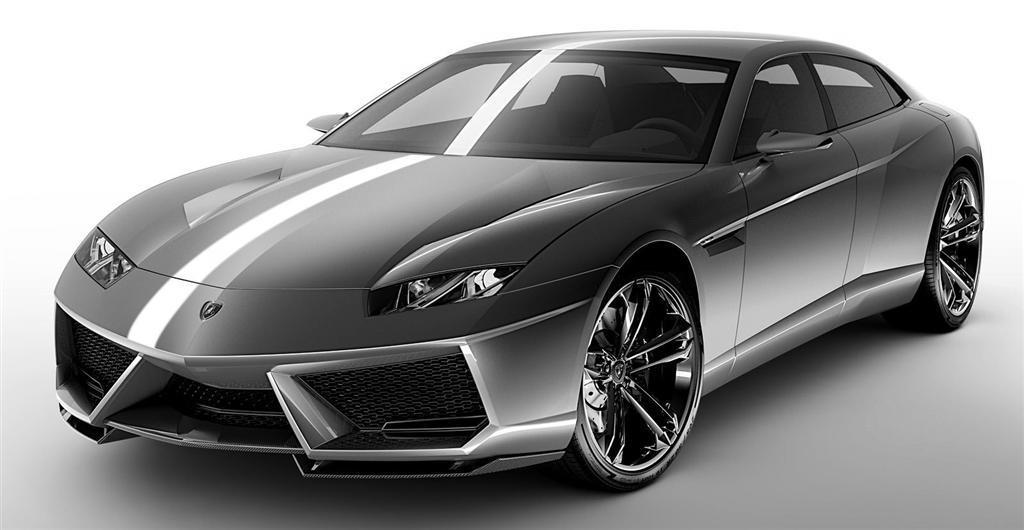car: (56, 30, 984, 494)
